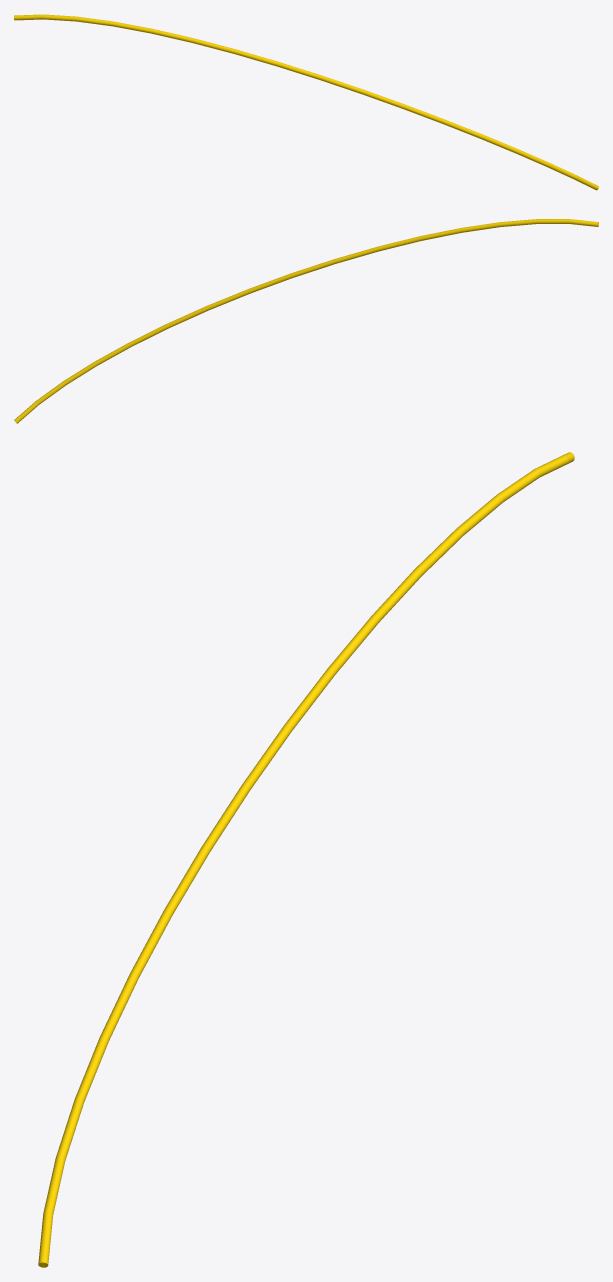
Rendered from Event_420094457_track_23.fbx.
The picture shows the model from 3 angles, top to bottom: view 1: azimuth 30°, elevation 25°; view 2: azimuth 210°, elevation 25°; view 3: azimuth 270°, elevation 25°; orthographic projection. The views are drawn at different scales.
Visible parts, largest first — view 1: Model; view 2: Model; view 3: Model.
Boxes of the visible parts, x1,y1,x2,y2 form: Model: [14, 14, 598, 190]; Model: [14, 219, 598, 423]; Model: [38, 452, 574, 1267].
Bounding box in the file's own units: 4.17 × 1.67 × 2.13.
